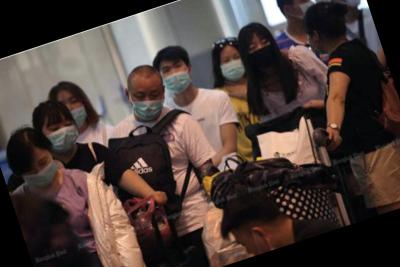mask_weared_incorrect: (54, 91, 93, 135), (231, 222, 270, 260)
with_mask: (17, 151, 63, 194), (126, 83, 170, 127), (42, 116, 85, 158), (241, 35, 282, 78), (157, 57, 196, 98), (217, 51, 249, 85)
